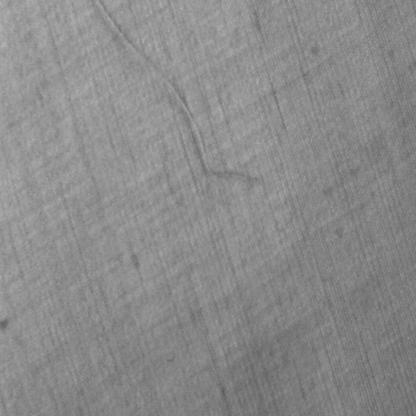objects: (90, 0, 259, 187)
